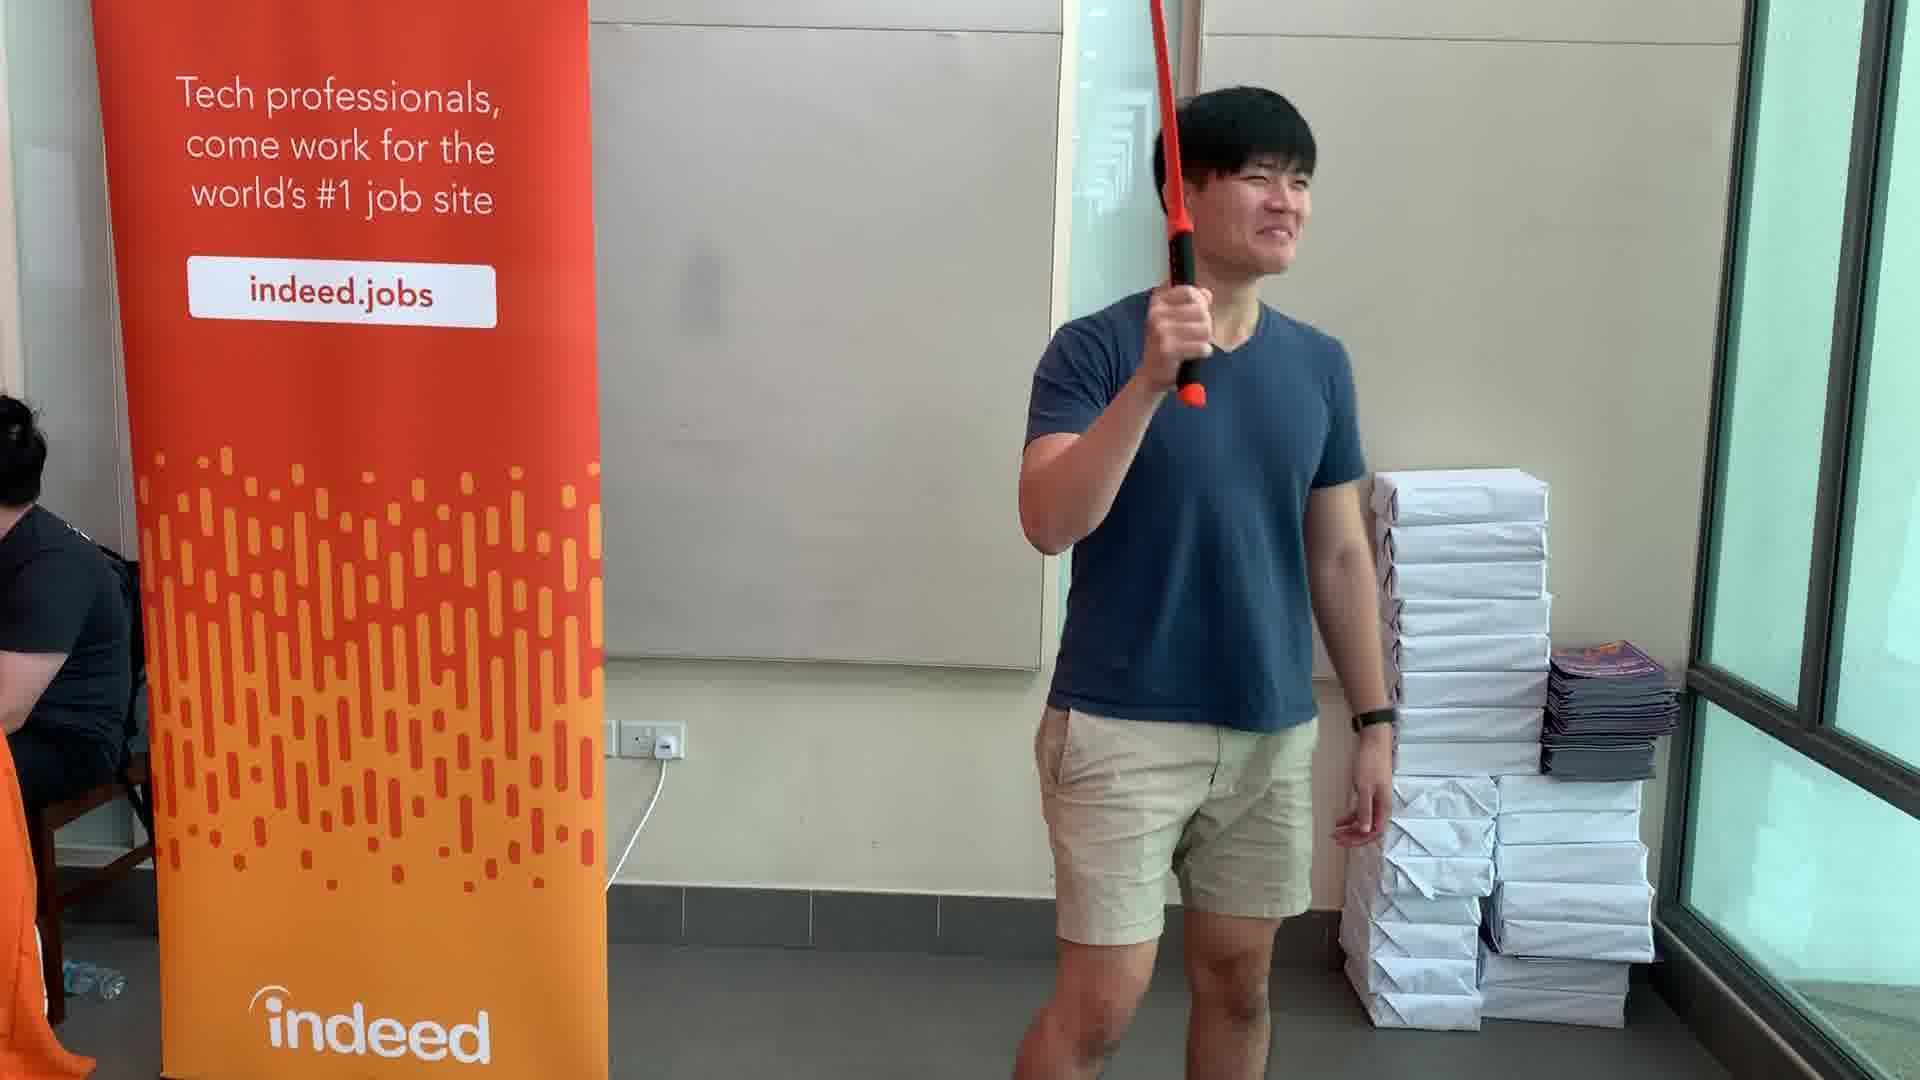knife: (1138, 1, 1211, 407)
